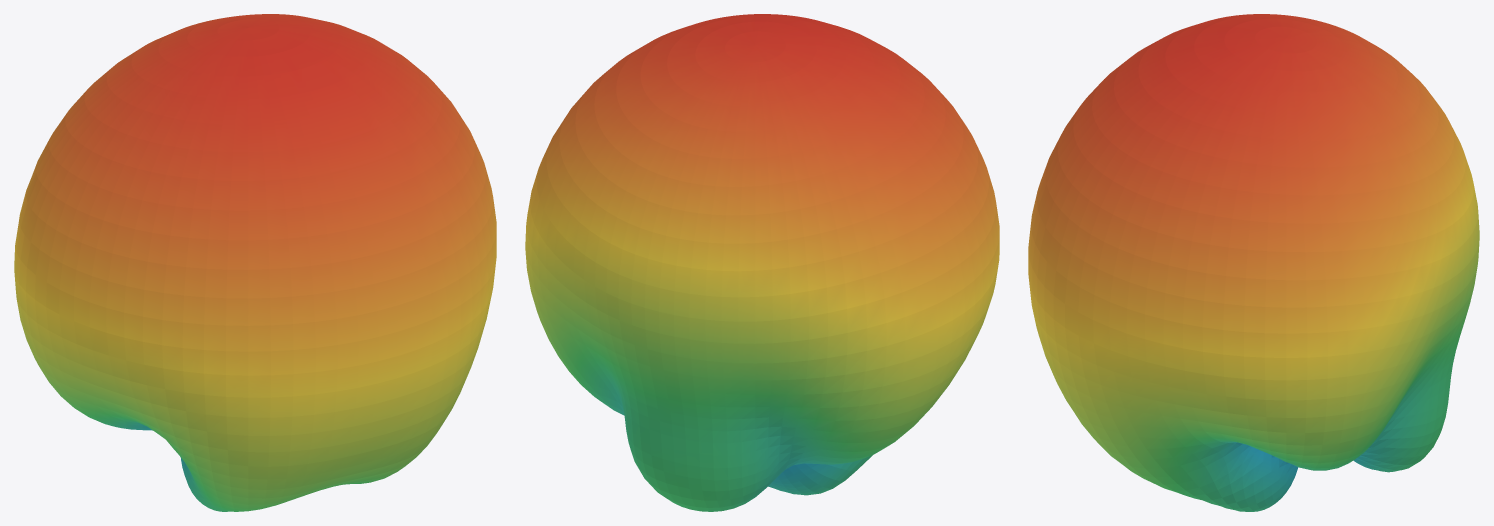
File: pattern_9.425ghz.glb
3 renders of one model, left to right at view 1: azimuth 30°, elevation 25°; view 2: azimuth 150°, elevation 25°; view 3: azimuth 270°, elevation 25°, orthographic.
Visible parts, largest first — view 1: balanis-ex14.1-patch-far-field-book-ground-ff directivity 9.; view 2: balanis-ex14.1-patch-far-field-book-ground-ff directivity 9.; view 3: balanis-ex14.1-patch-far-field-book-ground-ff directivity 9..
Part boxes in pixels (box(x1,y1,x2,y2)): balanis-ex14.1-patch-far-field-book-ground-ff directivity 9.: box(14, 14, 496, 511); balanis-ex14.1-patch-far-field-book-ground-ff directivity 9.: box(525, 14, 999, 511); balanis-ex14.1-patch-far-field-book-ground-ff directivity 9.: box(1028, 14, 1479, 511).
Size of the model in its own units: 0.1366 by 0.1404 by 0.1268.
